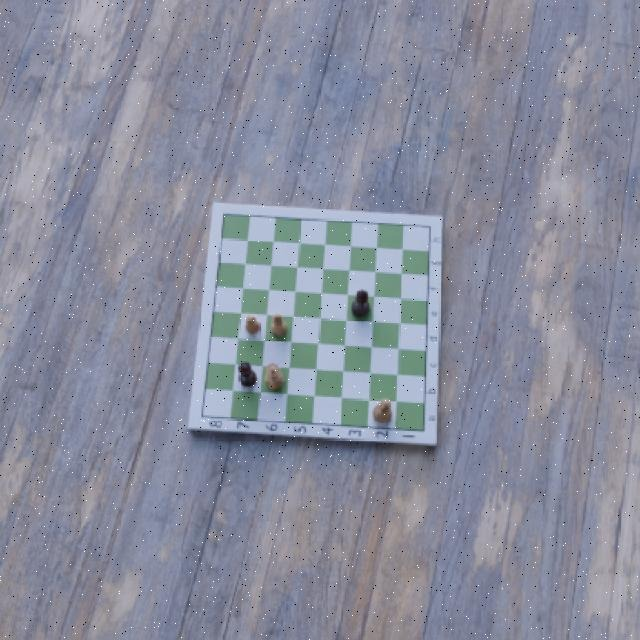black-king: (351, 288, 373, 318)
black-queen: (237, 360, 259, 387)
white-bishop: (270, 313, 290, 339)
white-pawn: (244, 314, 261, 338)
white-queen: (262, 362, 286, 392)
